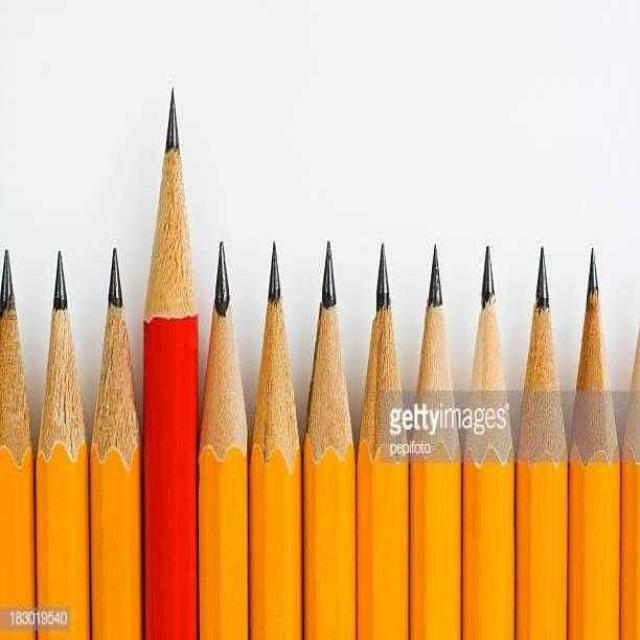pencil: (134, 66, 205, 638), (508, 225, 578, 638), (189, 212, 254, 638), (405, 220, 469, 638), (460, 221, 523, 638), (560, 231, 624, 638), (301, 211, 362, 638), (87, 215, 147, 638), (352, 208, 411, 638), (33, 239, 96, 638), (248, 219, 303, 638), (0, 223, 38, 638), (617, 299, 639, 638)
